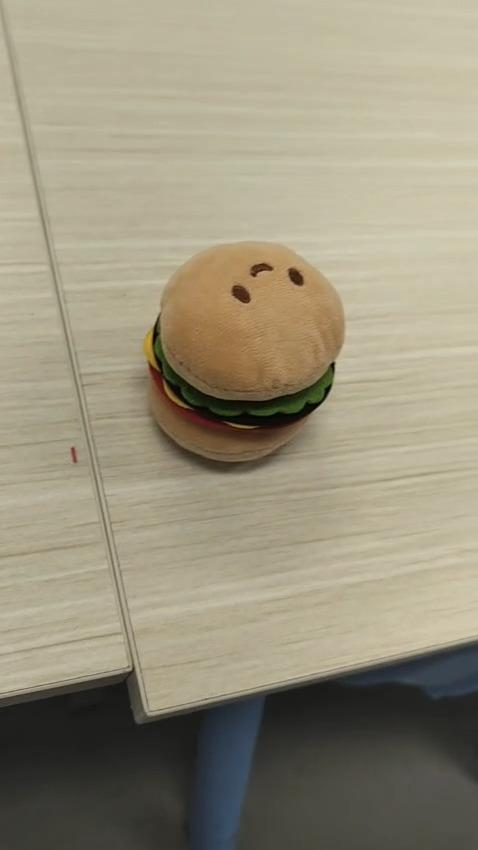hamburger: (142, 239, 345, 464)
